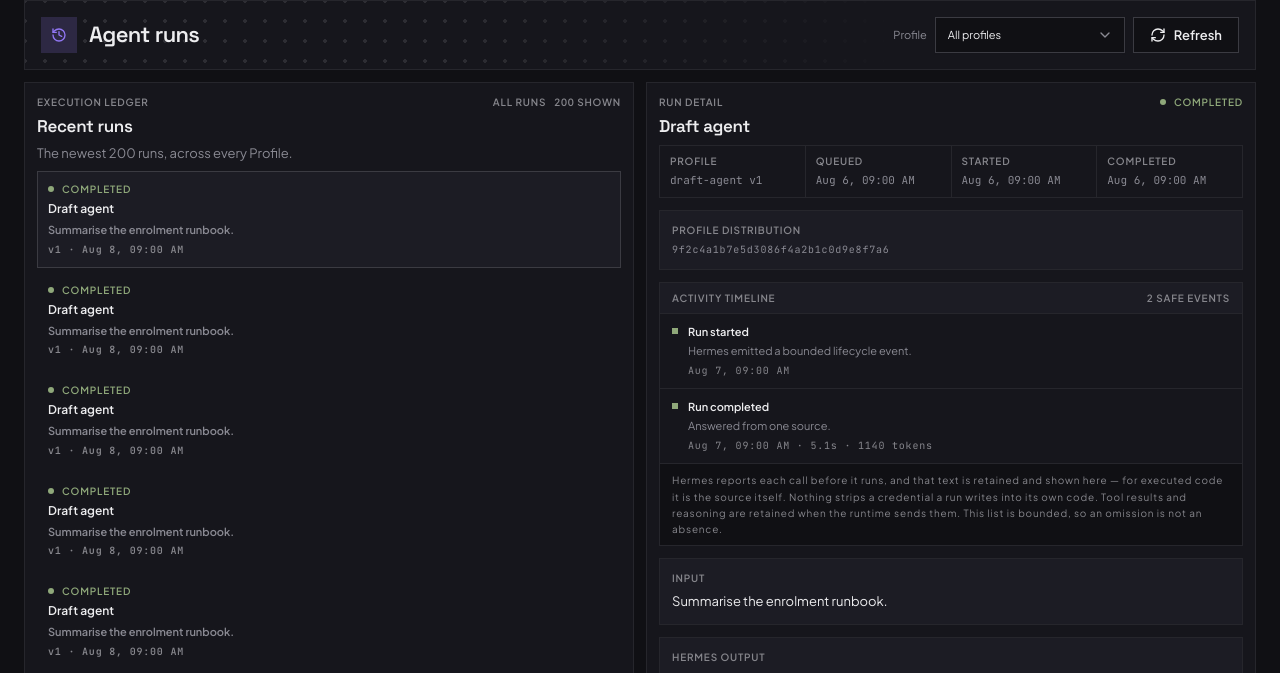
Scenario: agent runs › does not claim a Profile has never run when the window cannot see that far
The width and height of the screenshot is (1280, 673).
Select "Support analyst" in the dropdown named "Filter by profile" at (1030, 35), box left=935, top=17, right=1125, bottom=53
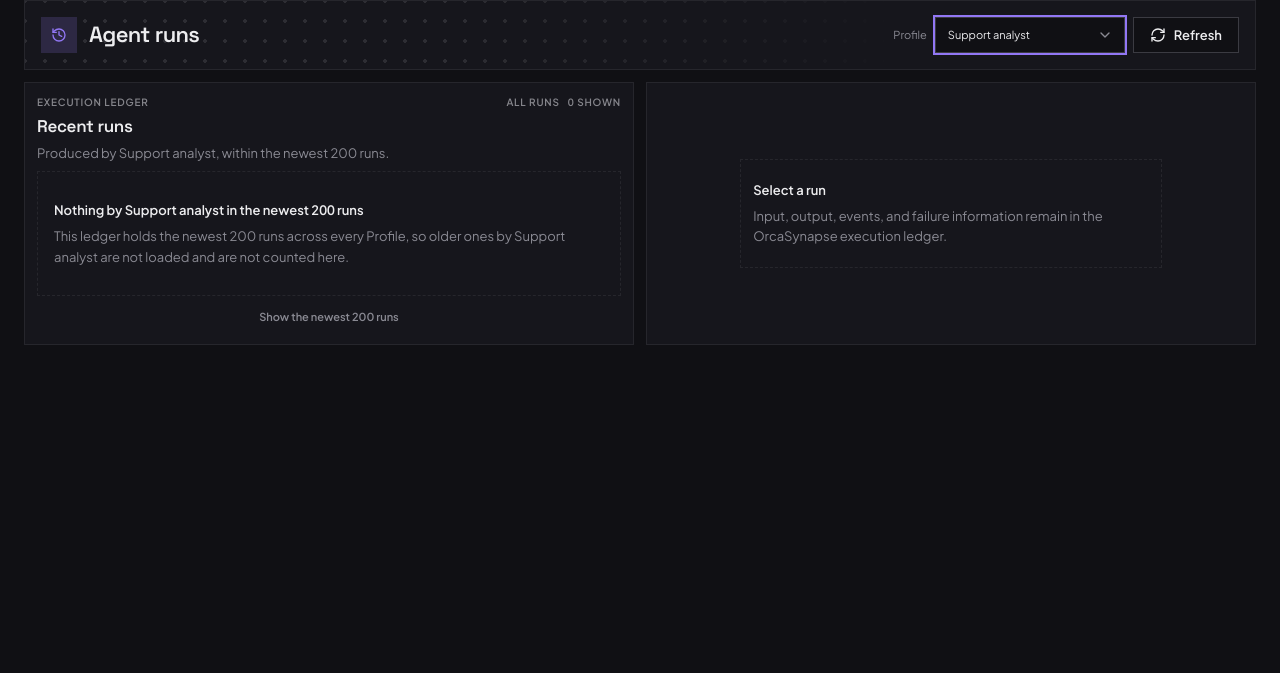
Expected: the text "Nothing by Support analyst in the newest 200 runs" is shown, left=54, top=200, right=364, bottom=220
Expected: the text "older ones by Support analyst are not loaded" is shown, left=54, top=228, right=565, bottom=264
Expected: the text "Produced by Support analyst, within the newest 200 runs." is shown, left=37, top=143, right=389, bottom=163
